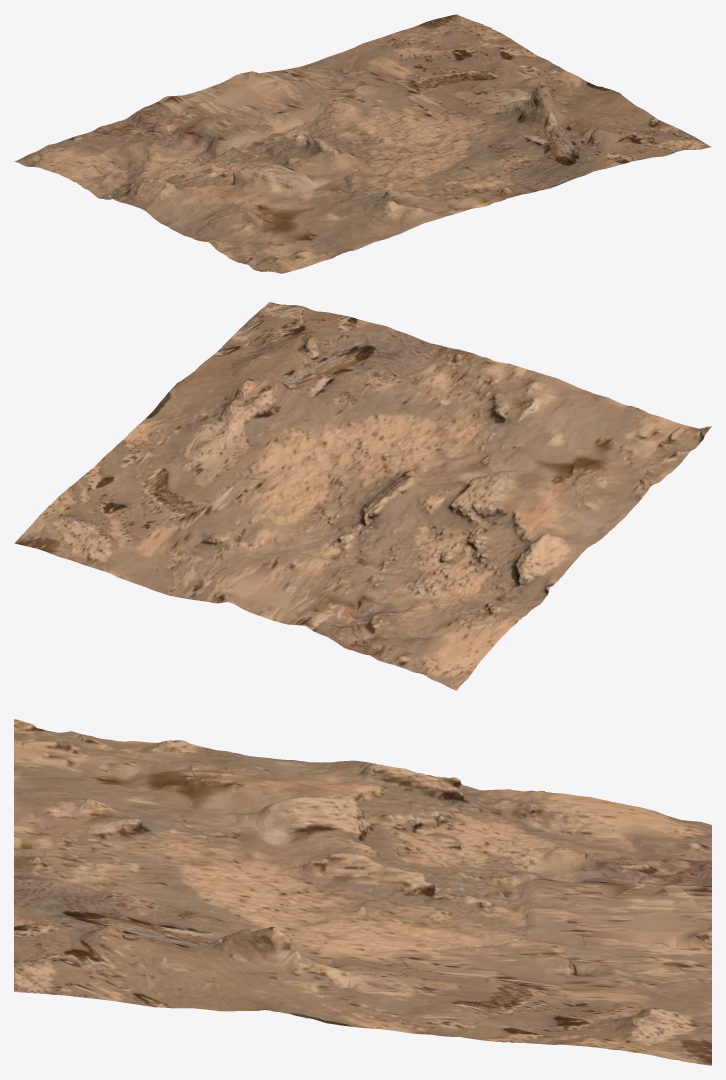
3 views of the same model, one above another, from view 1: azimuth 30°, elevation 25°; view 2: azimuth 150°, elevation 25°; view 3: azimuth 270°, elevation 25° (orthographic). The views are drawn at different scales.
Bounding box in the file's own units: 4.18 × 0.9431 × 4.18.
3 materials, 3 textured.
